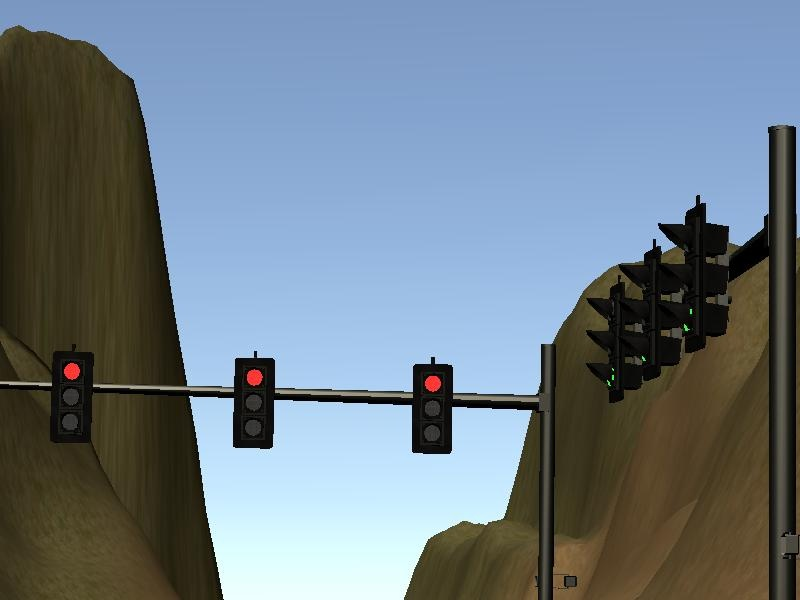red: (227, 350, 279, 454), (49, 346, 98, 450), (408, 356, 456, 458)
